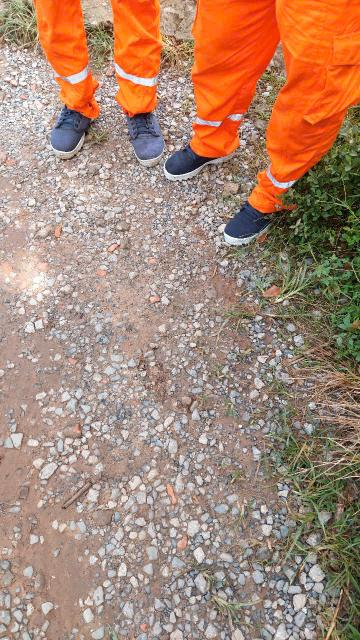shoes: (209, 183, 287, 253), (36, 96, 98, 166), (159, 131, 242, 182), (118, 101, 173, 169)
